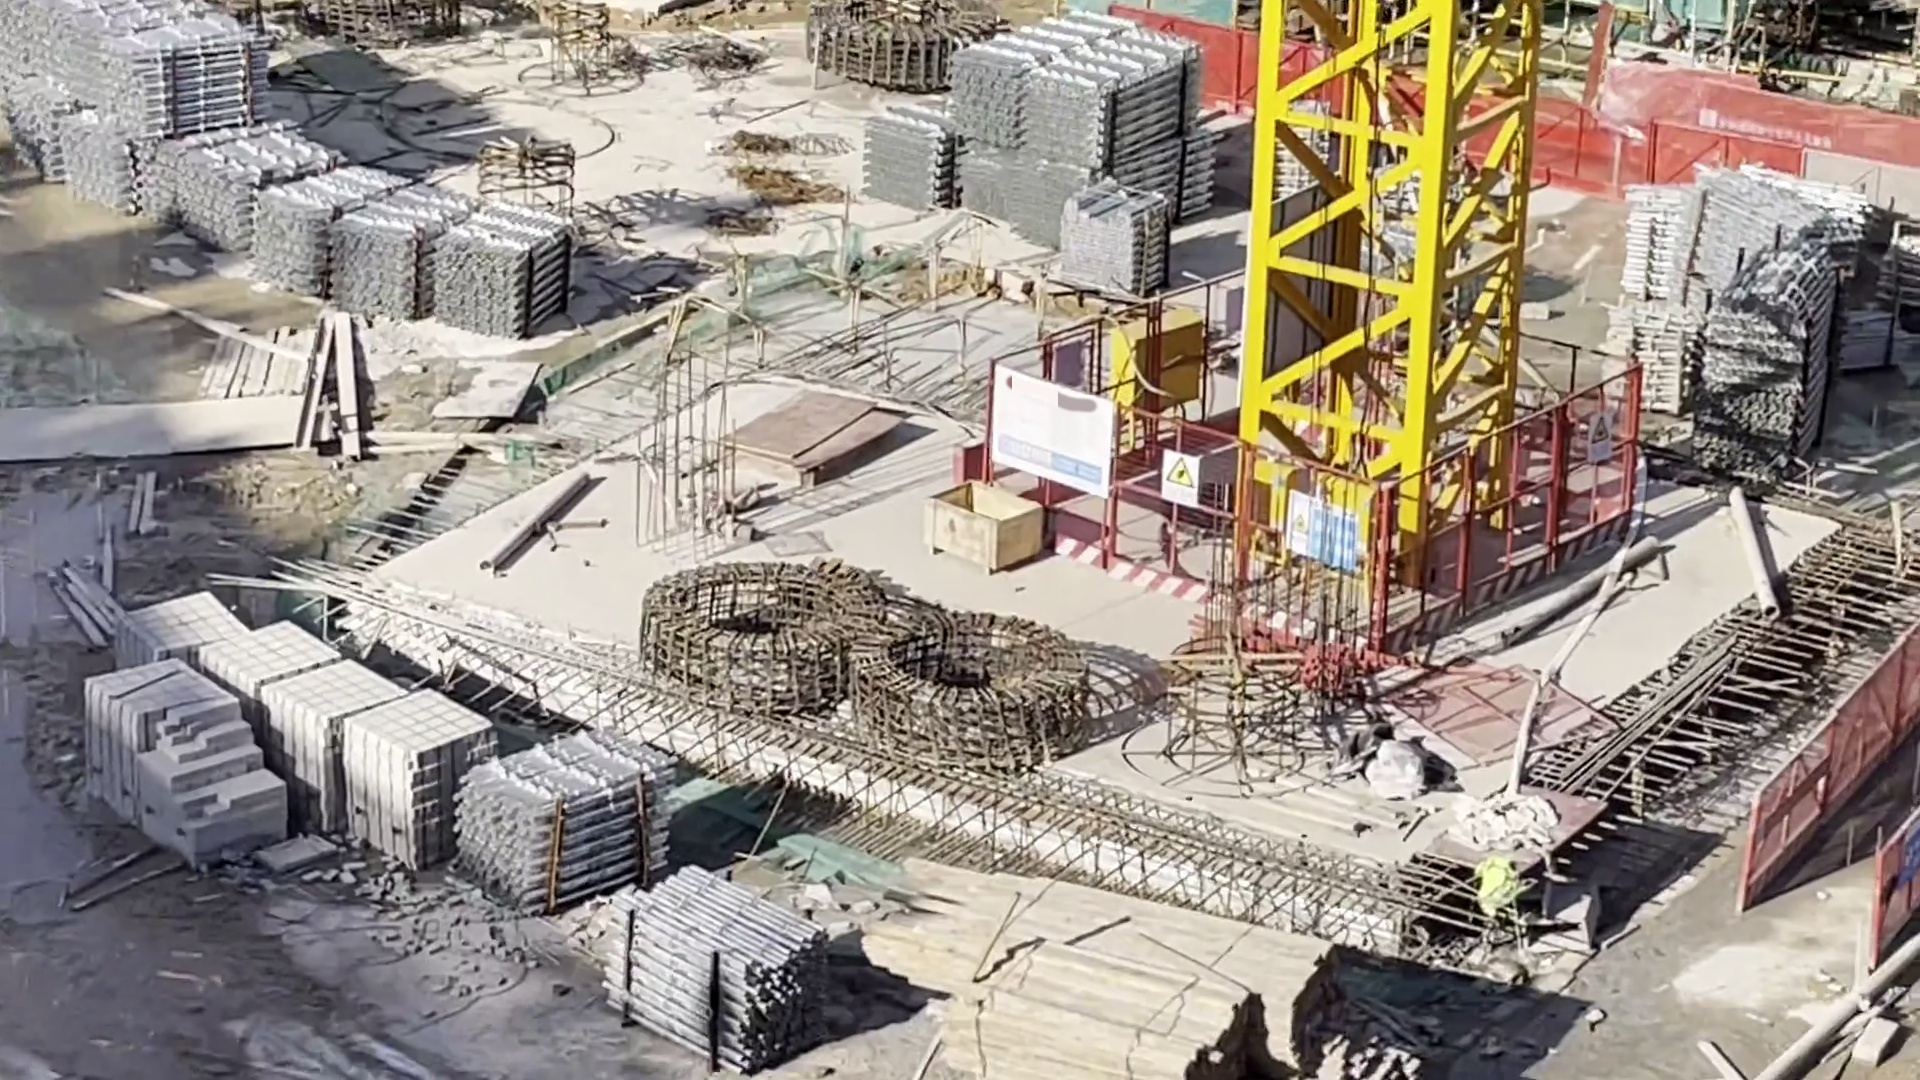brick: (212, 624, 483, 868), (82, 670, 284, 860), (121, 600, 247, 684)
ebox: (1116, 310, 1205, 411)
fence: (1544, 66, 1920, 218), (1753, 637, 1920, 928), (1197, 26, 1255, 108)
scaffold: (183, 135, 568, 326), (3, 1, 269, 218), (956, 15, 1213, 237), (613, 873, 822, 1064), (465, 731, 669, 915), (1629, 179, 1850, 289), (1716, 257, 1815, 476), (1063, 187, 1164, 297), (869, 102, 959, 210), (1611, 301, 1697, 407)
slogan: (1290, 493, 1362, 574), (1163, 451, 1197, 508), (1900, 824, 1920, 889), (1588, 410, 1611, 458)
wood: (881, 862, 1313, 1080)
